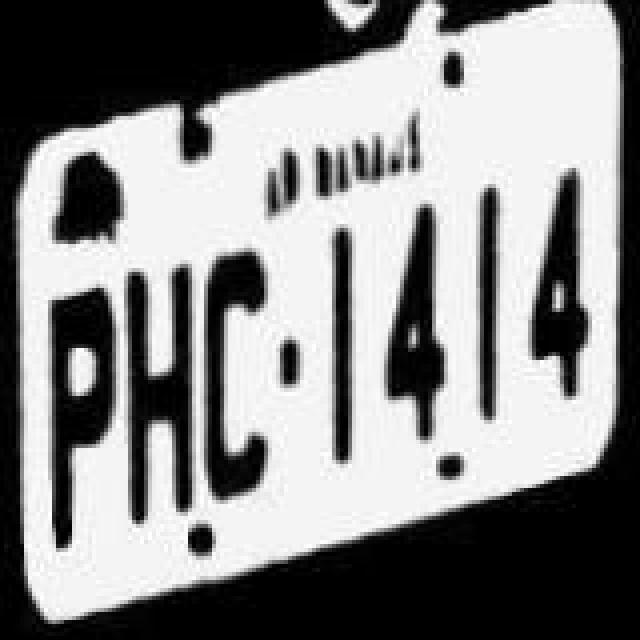1: (316, 220, 368, 504), (464, 184, 516, 460)
4: (518, 158, 598, 434), (380, 202, 456, 454)
C: (196, 232, 280, 504)
H: (116, 250, 196, 530)
P: (40, 280, 120, 560)
